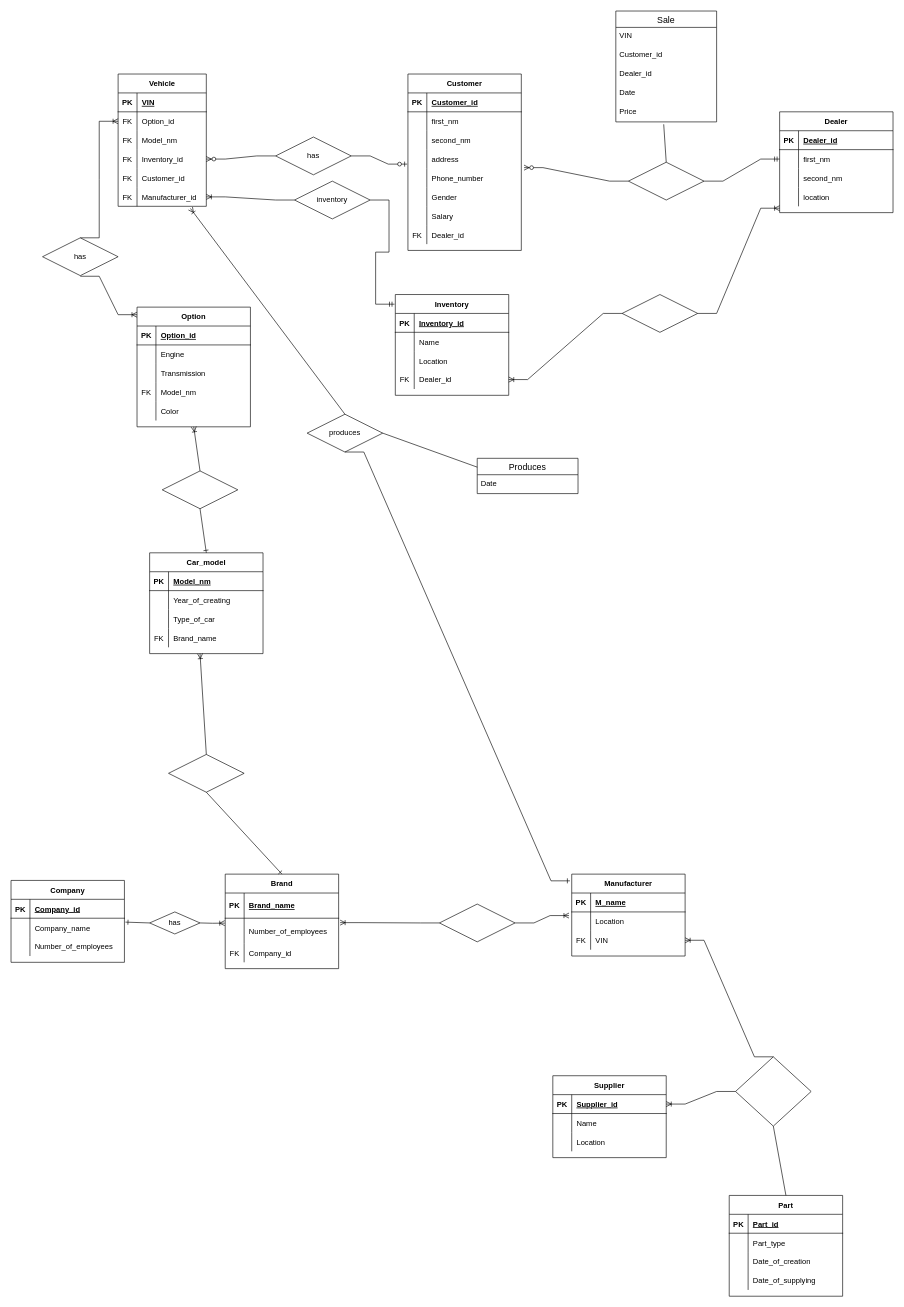
Some shapes in this 904 by 1307 pixel diagram are drawn without their labels. Each missing label, with the centre of its shape:
"access" goes at point 659,313.
"From" goes at point 206,773.
"linked" goes at point 477,922.
"provide" goes at point 200,489.
"sells" goes at point 666,181.
"supplies" goes at point 773,1091.
